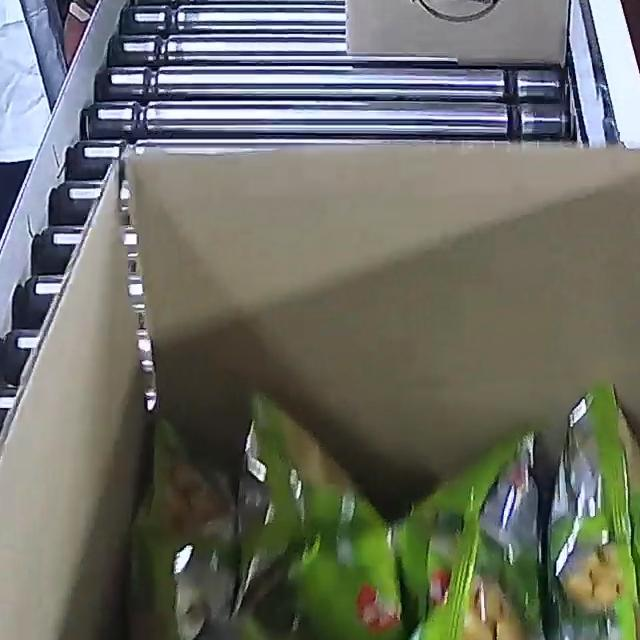yogurt: (135, 350, 640, 640)
